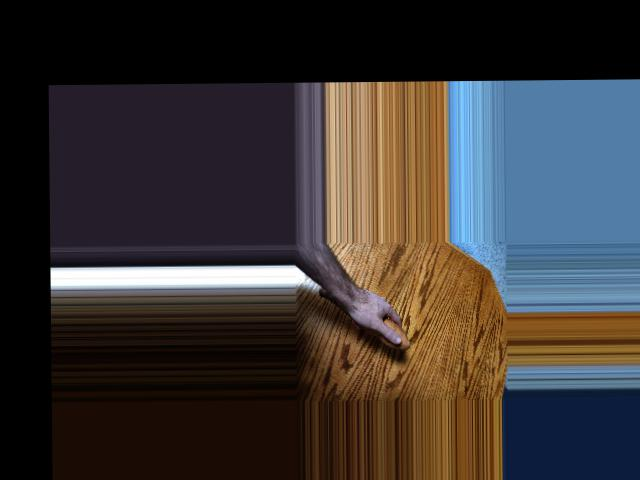sweet_potato: (320, 288, 411, 351)
